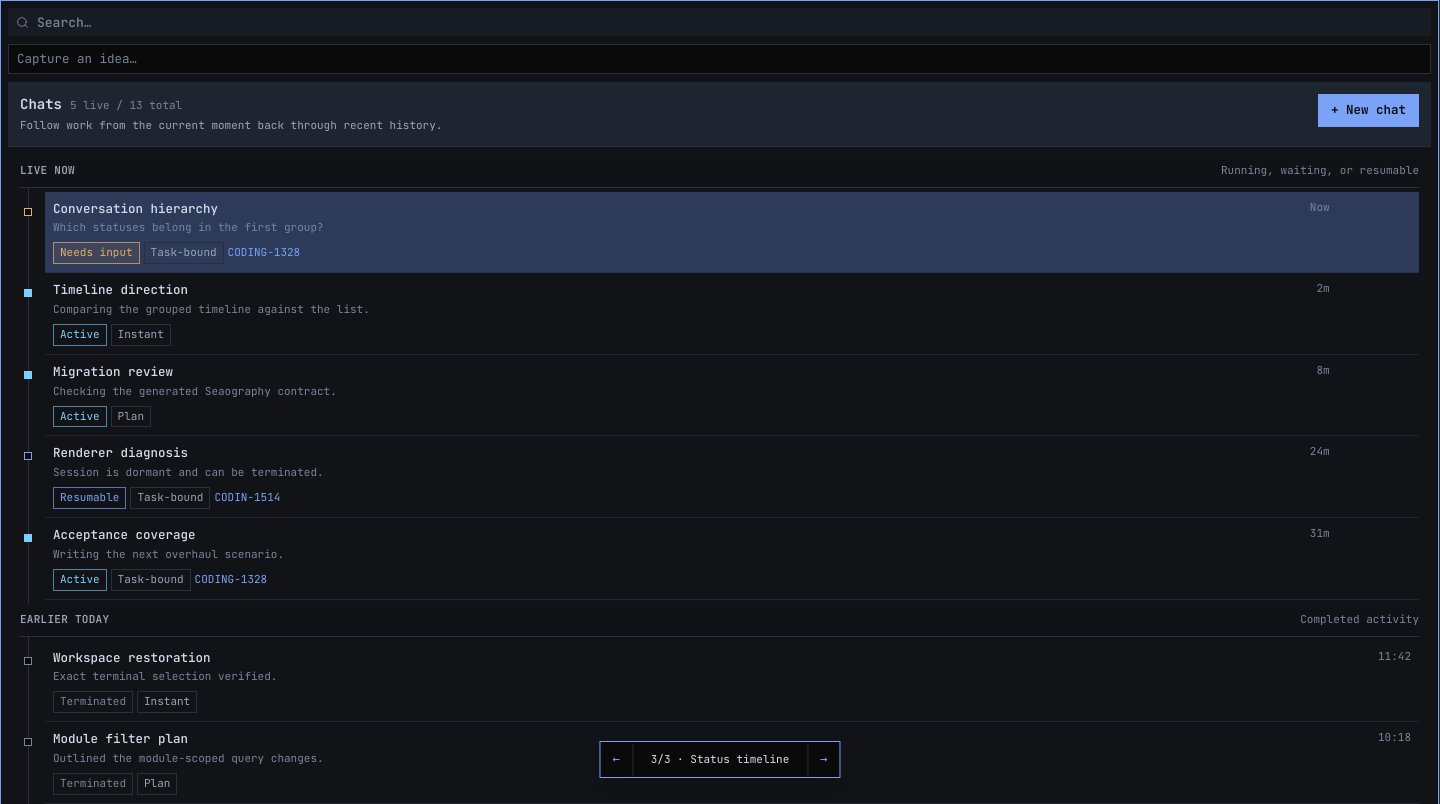
it: overhaul acceptance - Conversations design prototype › selects and switches the named timeline design from the query parameter
Expected: the text "3/3 · Status timeline" is shown, [632,744,808,776]
Click the button named "Next conversation design".
click(824, 760)  # box [808,742,840,777]
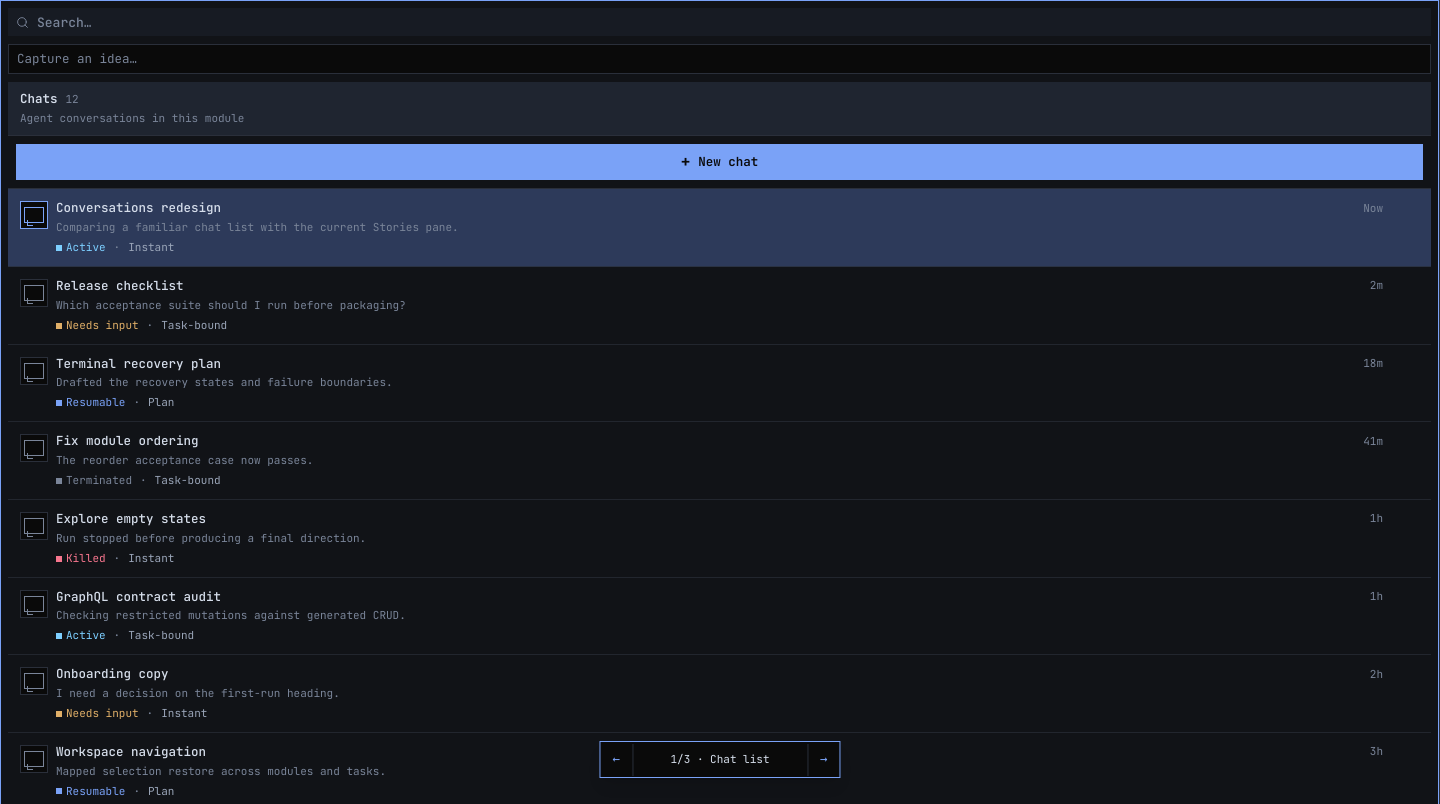
Expected: the text "1/3 · Chat list" is shown, [632,744,808,776]
